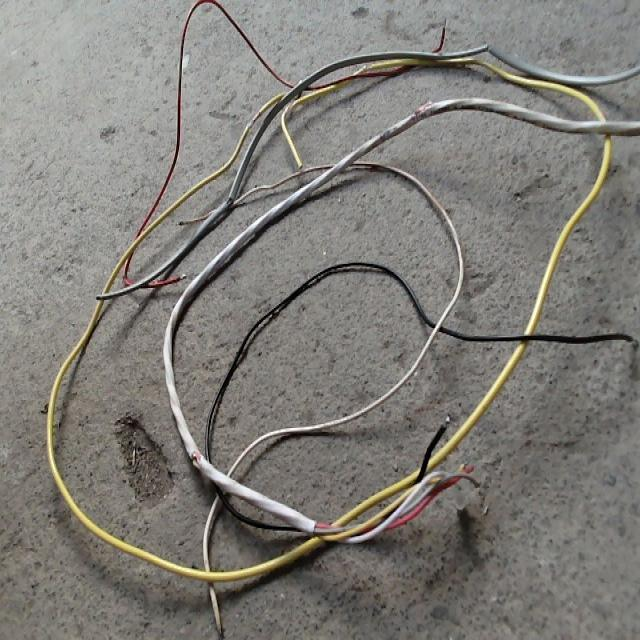-: (413, 98, 433, 118), (188, 447, 202, 465)
